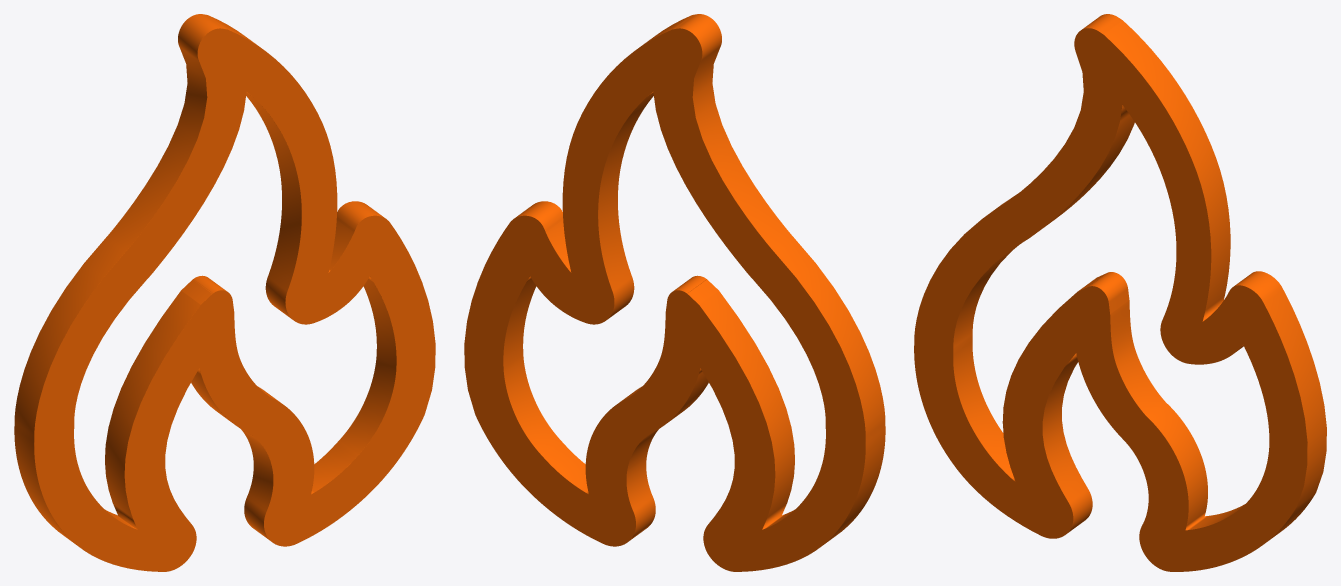
File: hoodie_model.glb
3 views of the same model, side by side, from view 1: azimuth 30°, elevation 25°; view 2: azimuth 150°, elevation 25°; view 3: azimuth 330°, elevation 25° (orthographic). The views are drawn at different scales.
Parts seen in each view (by area): view 1: Curve; view 2: Curve; view 3: Curve.
Boxes of the visible parts, box(x1,y1,x2,y2) form: Curve: box(14, 14, 435, 571); Curve: box(464, 14, 885, 571); Curve: box(914, 14, 1326, 571).
Bounding box in the file's own units: 3.18 × 4.05 × 0.2705.
